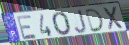4: (40, 13, 53, 38)
D: (84, 8, 105, 34)
E: (15, 14, 38, 41)
J: (74, 9, 88, 35)
O: (51, 11, 72, 37)
X: (102, 5, 125, 32)
